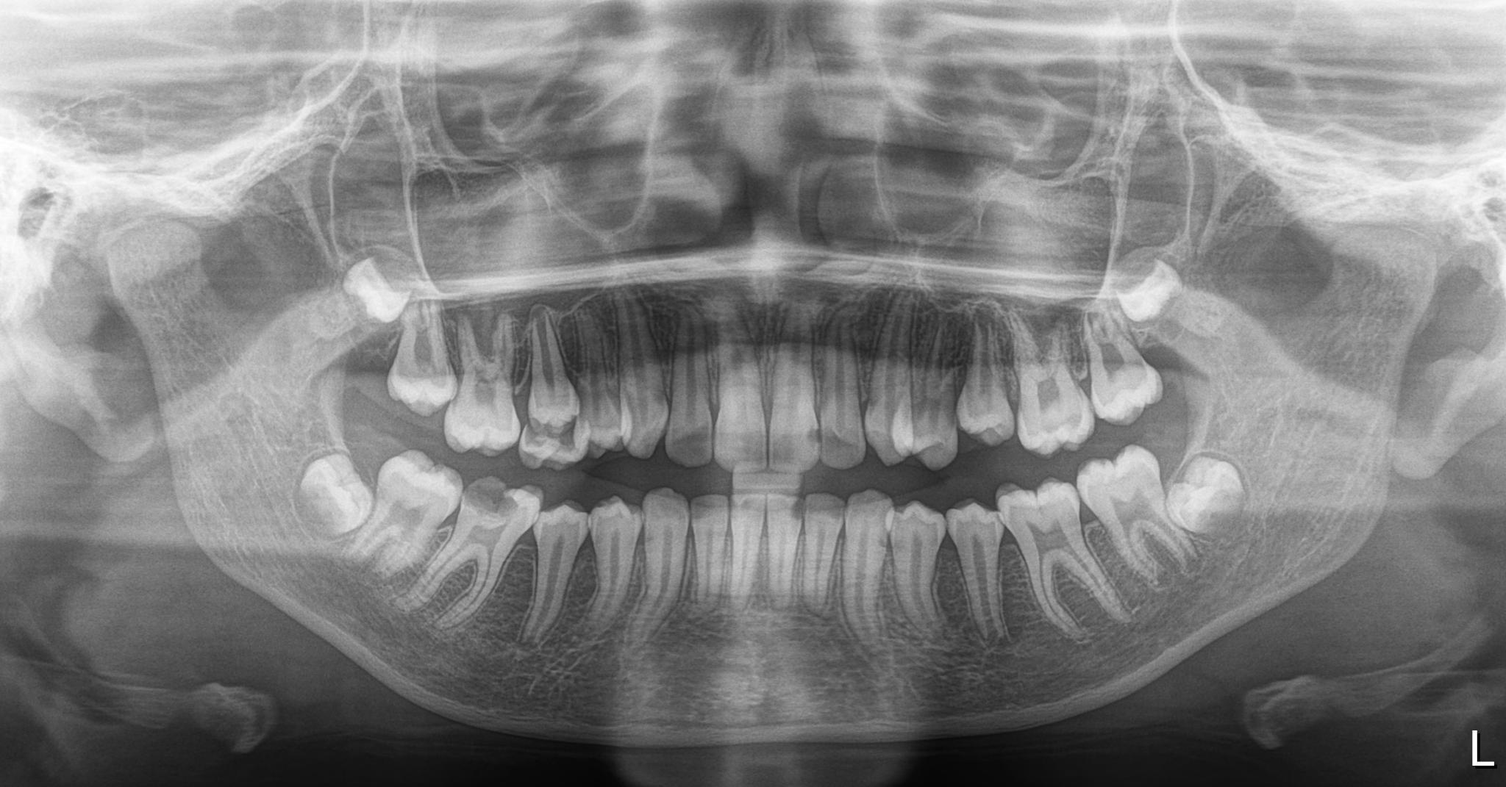Dental Caries: (522, 419, 583, 458)
Impacted Third Molar: (283, 452, 382, 540), (1166, 459, 1274, 535), (325, 244, 413, 334), (1107, 261, 1207, 330)
